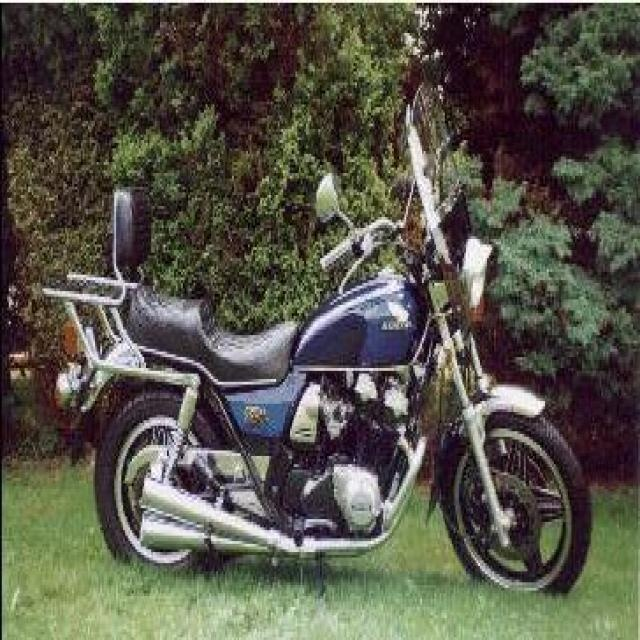Motorcycle: (54, 83, 594, 594)
